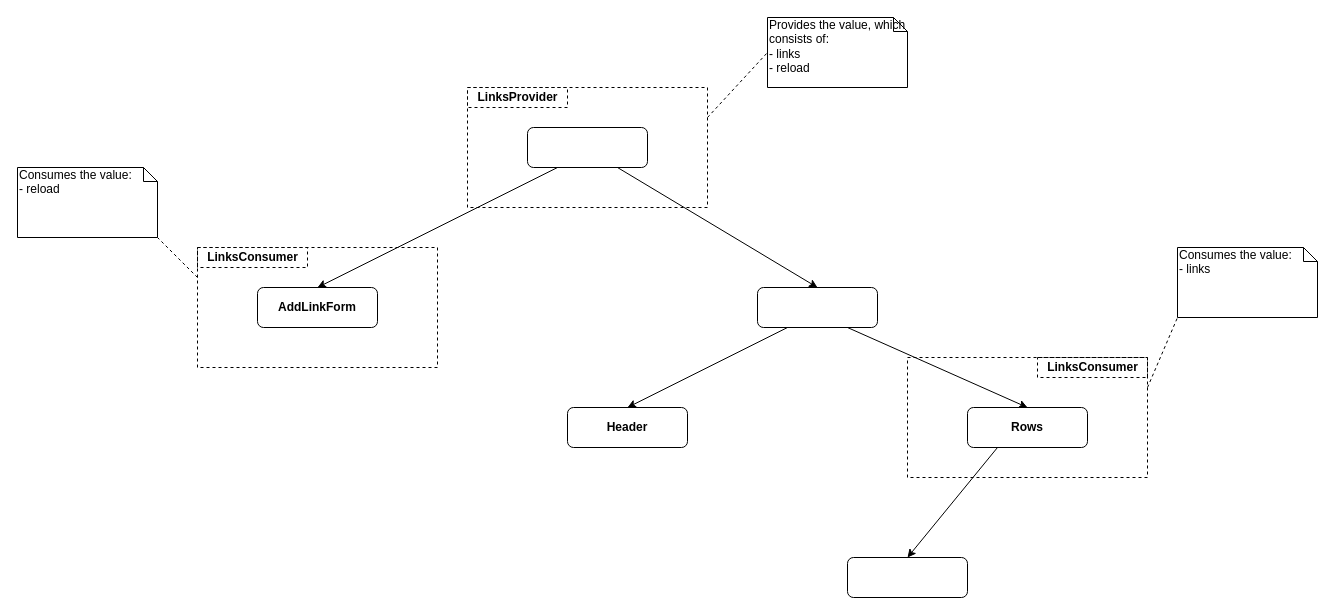
This 1335x615 diagram has some shape labels left out. Each missing label, with the centre of its shape:
App: the point at 587,147
LinksTable: the point at 817,307
Row: the point at 907,577
